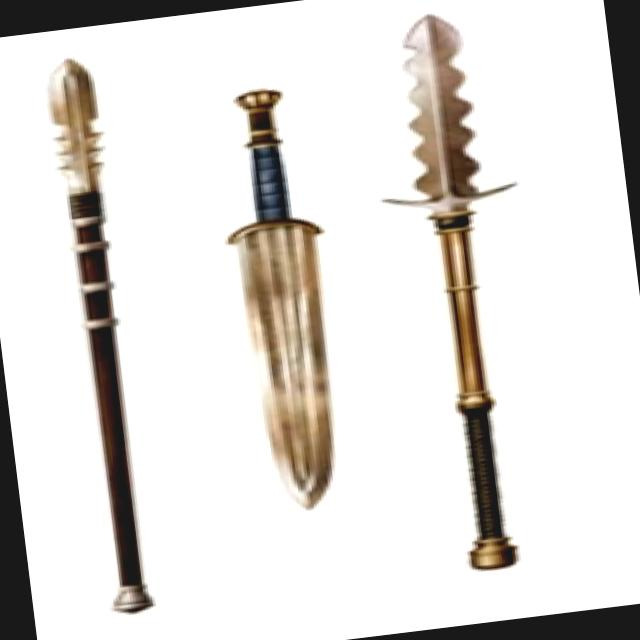spear: (350, 0, 564, 593), (0, 40, 189, 637)
